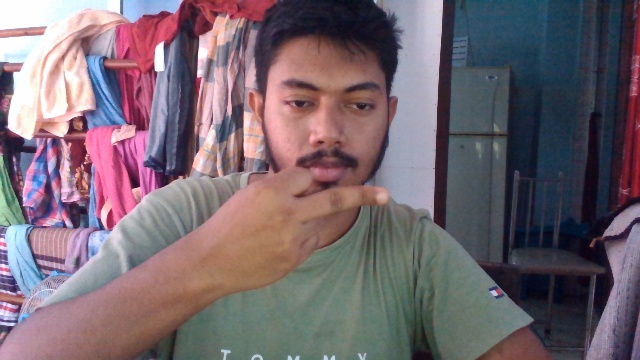fucku: (217, 162, 392, 286)
